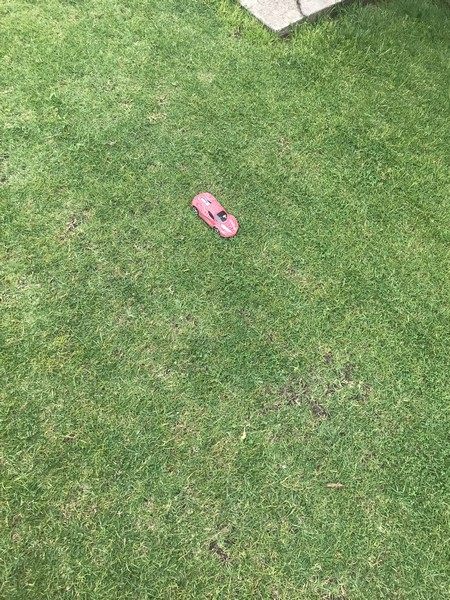RC: (190, 191, 240, 240)
